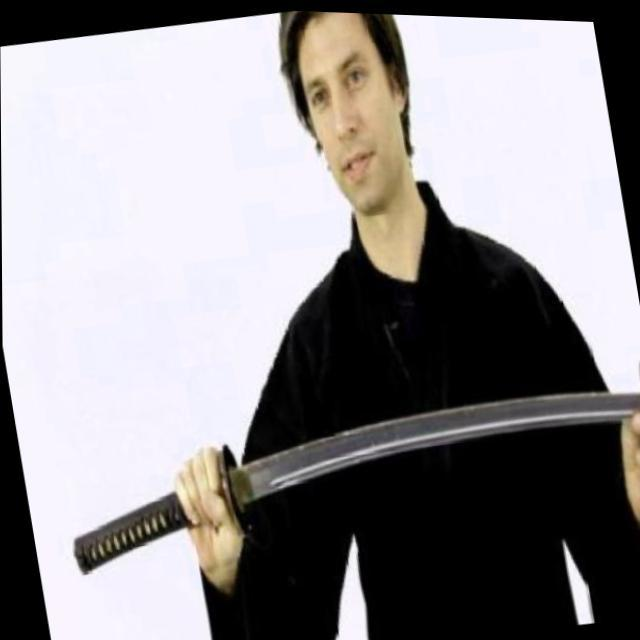weapon: (53, 364, 640, 594)
